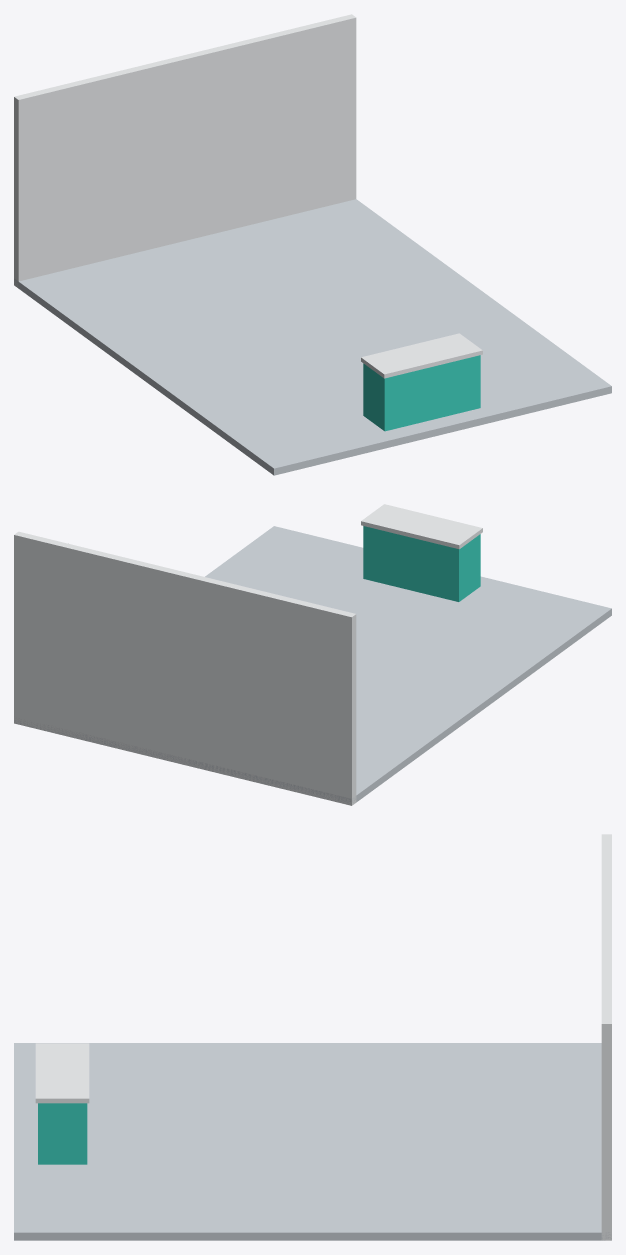
The picture shows the model from 3 angles, top to bottom: view 1: azimuth 30°, elevation 25°; view 2: azimuth 150°, elevation 25°; view 3: azimuth 270°, elevation 25°; orthographic projection. The views are drawn at different scales.
Parts seen in each view (by area): view 1: Exhibition Booth Concept; view 2: Exhibition Booth Concept; view 3: Exhibition Booth Concept.
Part boxes in pixels (bbox=[...]): Exhibition Booth Concept: bbox=[14, 14, 611, 475]; Exhibition Booth Concept: bbox=[14, 504, 611, 805]; Exhibition Booth Concept: bbox=[14, 834, 611, 1240].
Bounding box in the file's own units: 6 × 3.2 × 8.
